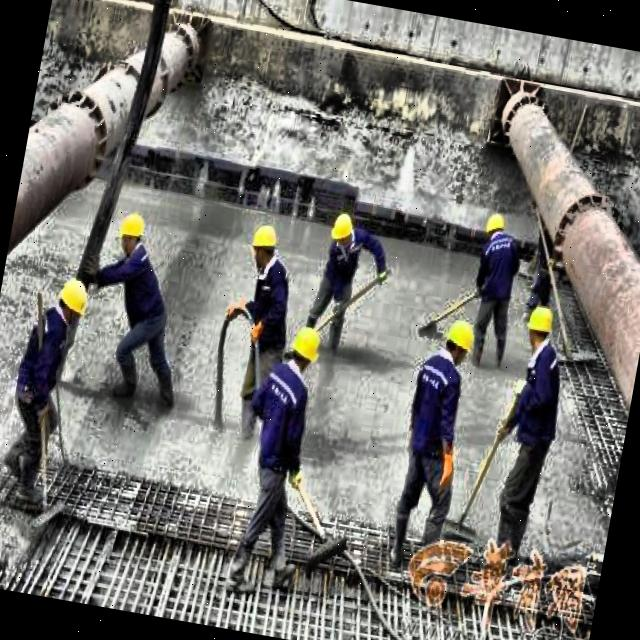helmet: (49, 269, 95, 332), (518, 296, 562, 356), (440, 312, 479, 370), (244, 219, 284, 274), (284, 324, 326, 374), (112, 206, 146, 256), (328, 207, 360, 250), (479, 208, 512, 248)
